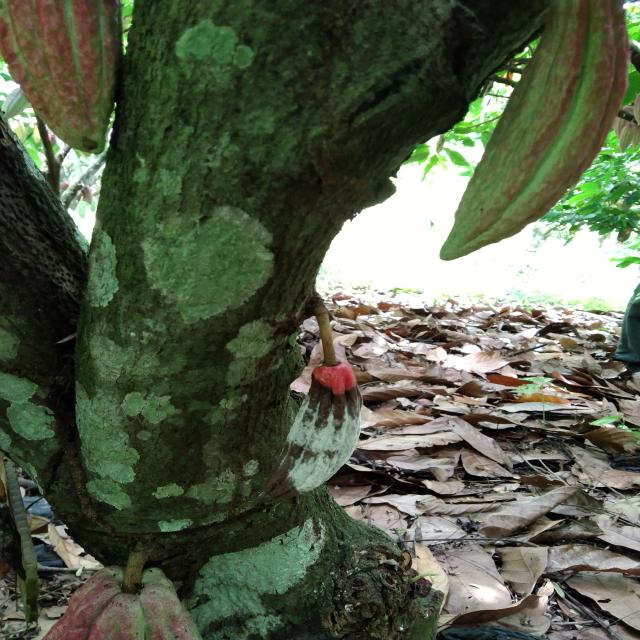Monilia: (267, 358, 362, 518)
Sana: (435, 0, 630, 261), (0, 0, 114, 152)
